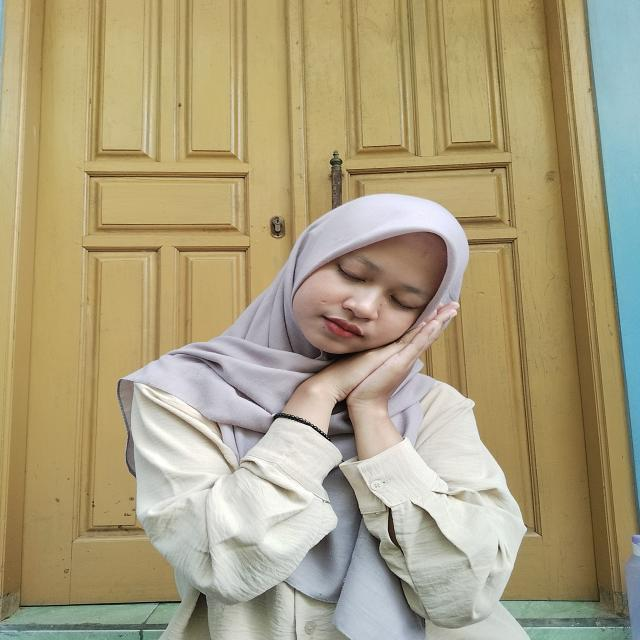tidur: (271, 297, 463, 463)
